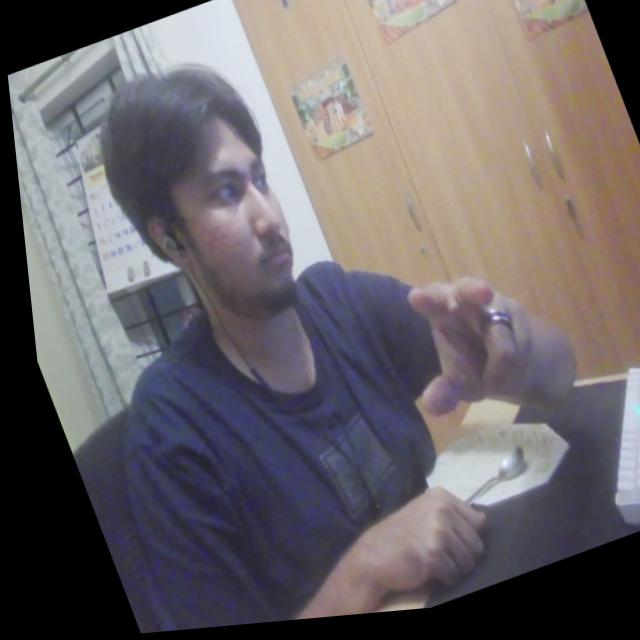no: (365, 242, 591, 472)
